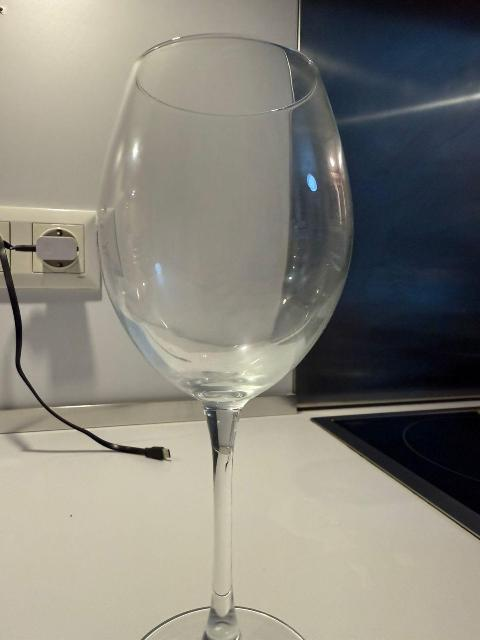Cam: (101, 32, 351, 640)
